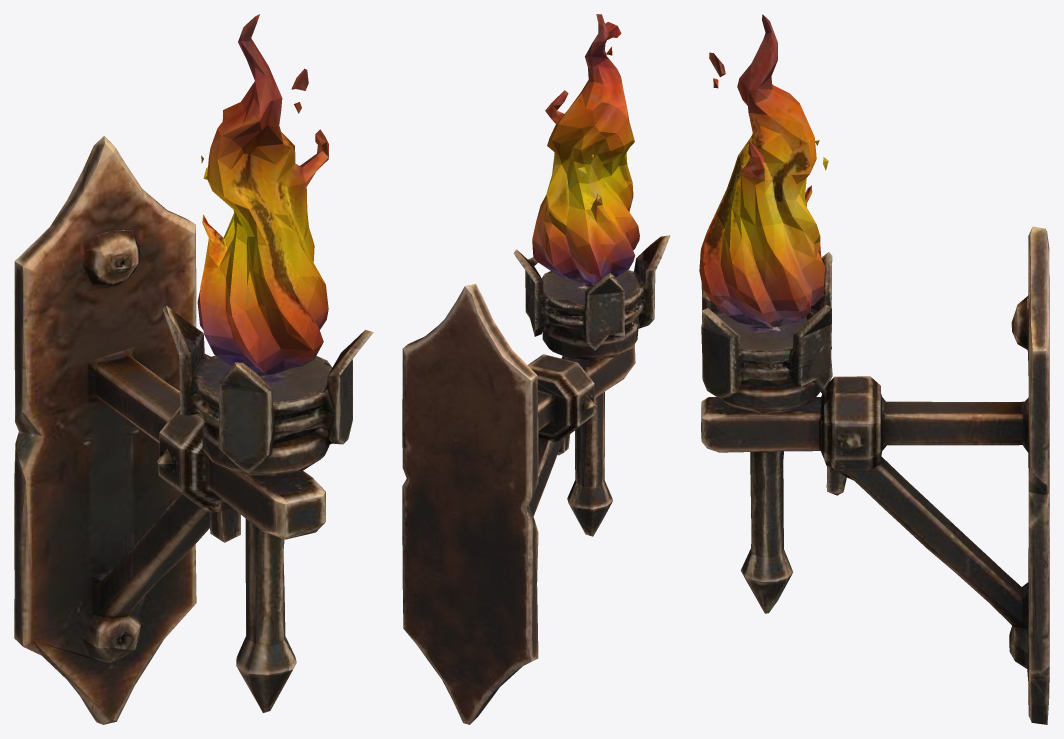
Rendered from sconce_torch_ornate_lod0.glb.
3 renders of one model, left to right at view 1: azimuth 30°, elevation 25°; view 2: azimuth 150°, elevation 25°; view 3: azimuth 270°, elevation 25°, orthographic. The views are drawn at different scales.
Parts seen in each view (by area): view 1: sconce_torch_ornate_lod0; view 2: sconce_torch_ornate_lod0; view 3: sconce_torch_ornate_lod0.
Part boxes in pixels (bbox=[...]): sconce_torch_ornate_lod0: bbox=[14, 14, 373, 724]; sconce_torch_ornate_lod0: bbox=[402, 14, 670, 724]; sconce_torch_ornate_lod0: bbox=[699, 14, 1049, 724].
Size of the model in its own units: 0.1313 by 0.5954 by 0.2684.
Materials: 1 (1 with a texture image).
